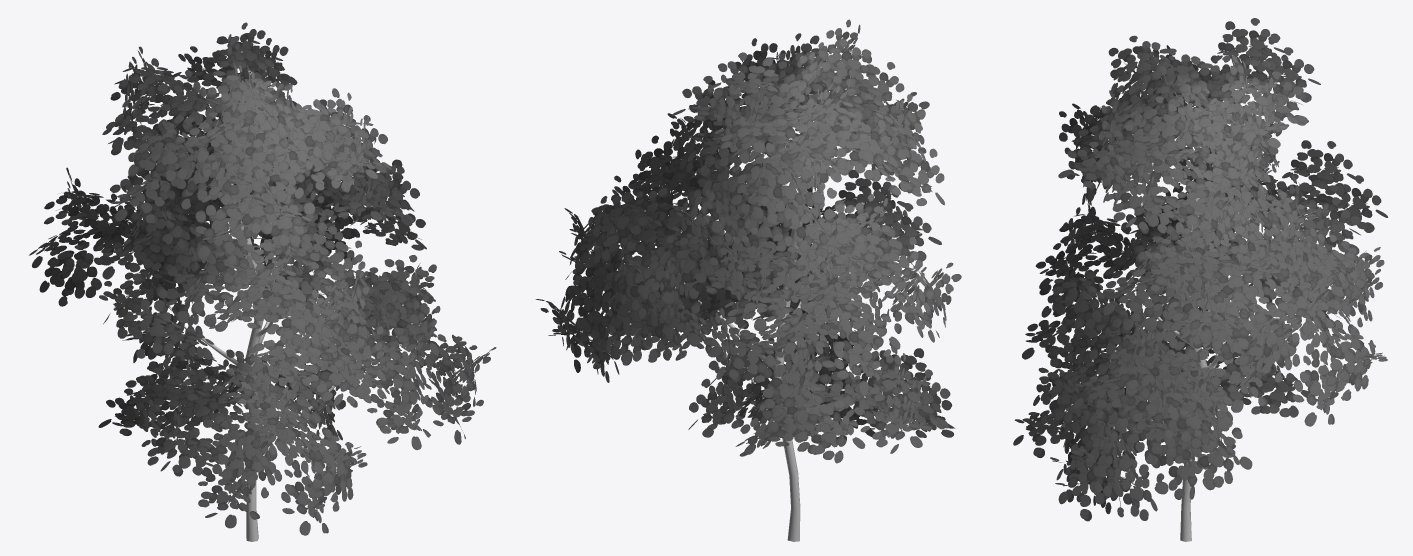
Rendered from SM_Bush_06.fbx.
3 renders of one model, left to right at view 1: azimuth 30°, elevation 25°; view 2: azimuth 150°, elevation 25°; view 3: azimuth 270°, elevation 25°, orthographic. The views are drawn at different scales.
Parts seen in each view (by area): view 1: SM_Bush_06_LOD0; view 2: SM_Bush_06_LOD0; view 3: SM_Bush_06_LOD0.
Boxes of the visible parts, x1,y1,x2,y2 form: SM_Bush_06_LOD0: (29, 22, 496, 541); SM_Bush_06_LOD0: (535, 19, 961, 541); SM_Bush_06_LOD0: (1013, 18, 1387, 541).
Size of what is drawn, in the model's own units: 2.67 by 3.31 by 2.38.
